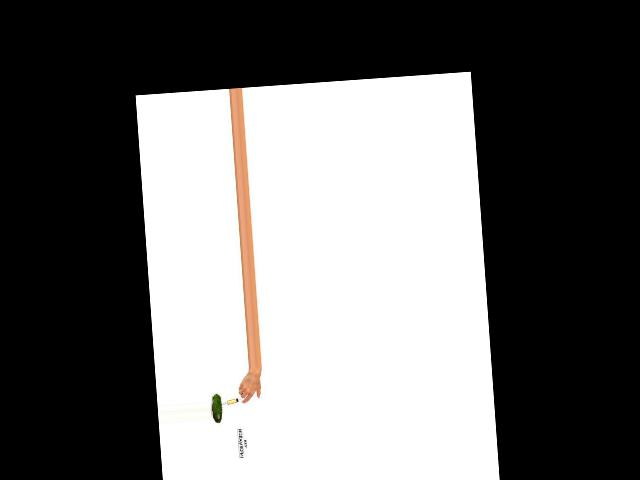cucumber: (211, 393, 222, 422)
